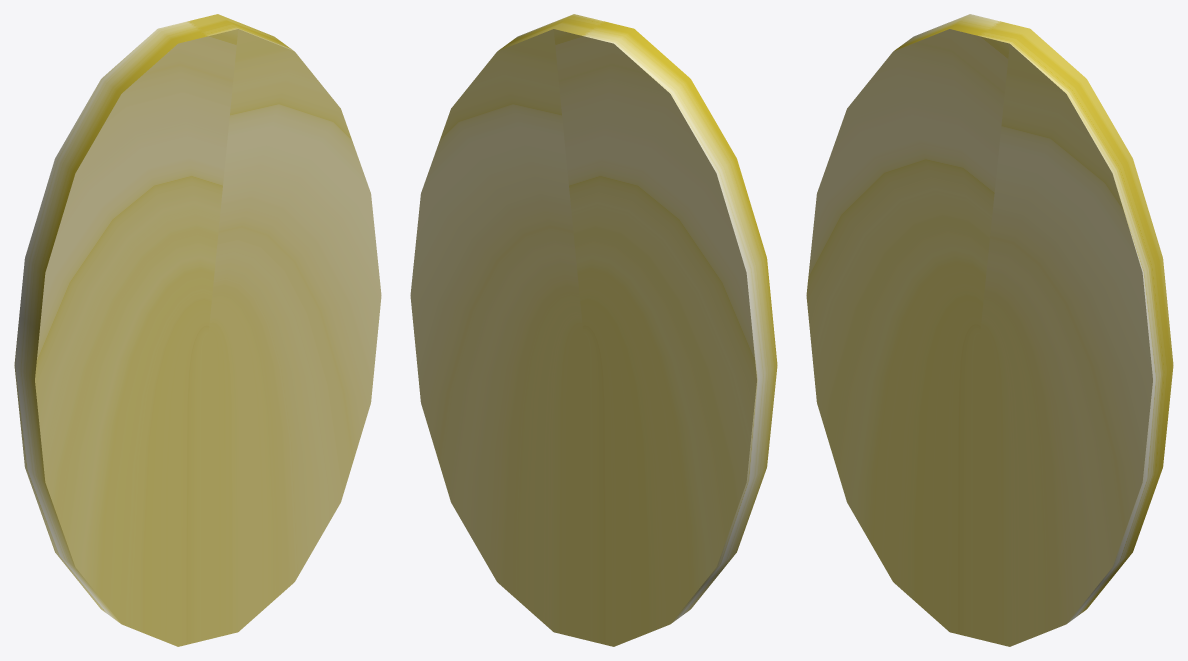
File: coin.FBX
The picture shows the model from 3 angles, left to right: view 1: azimuth 30°, elevation 25°; view 2: azimuth 150°, elevation 25°; view 3: azimuth 330°, elevation 25°; orthographic projection.
Visible parts, largest first — view 1: Cylinder001; view 2: Cylinder001; view 3: Cylinder001.
Boxes of the visible parts, bbox=[...] form: Cylinder001: bbox=[14, 14, 381, 646]; Cylinder001: bbox=[410, 14, 777, 646]; Cylinder001: bbox=[806, 14, 1173, 646].
Bounding box in the file's own units: 45.9 × 76.35 × 4.68.
Materials: 1 (1 with a texture image).
